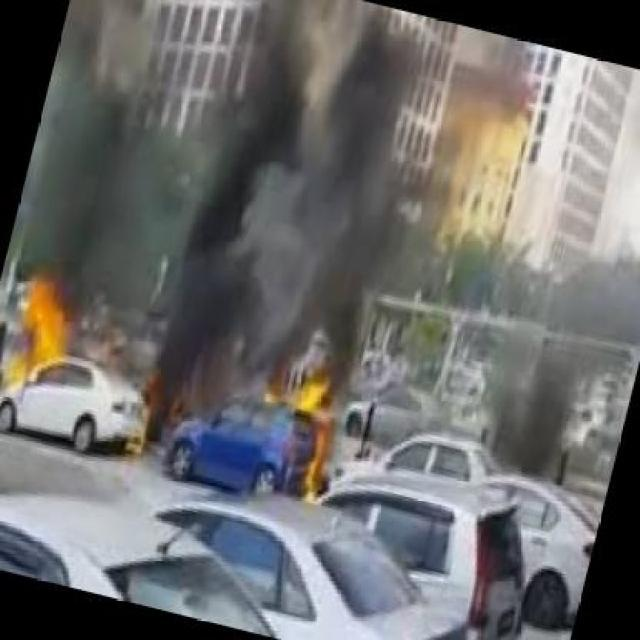Fire: (0, 263, 72, 411), (291, 375, 339, 511)
Smoke: (162, 6, 408, 385), (481, 252, 639, 491), (54, 10, 154, 270)
